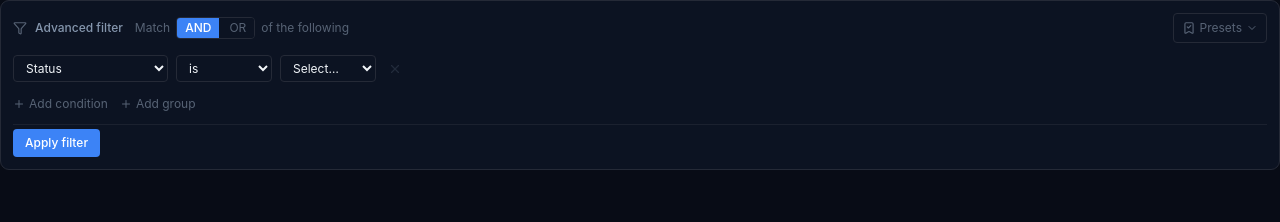
Test case: FilterBuilder › adds a new condition row when 'Add condition' is clicked
Click the button "Add condition" at coordinates (60, 104), box [13,96,108,112]
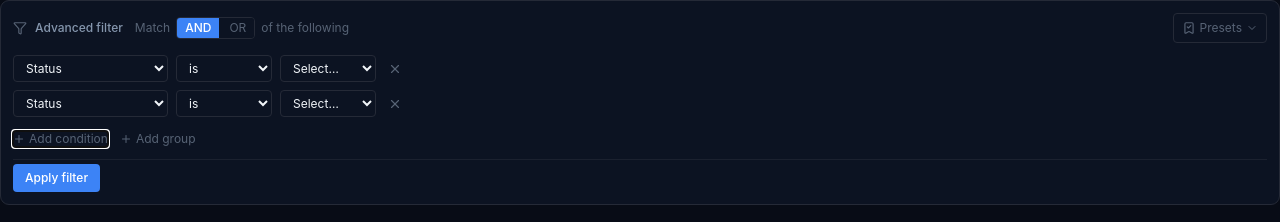
Check: the number of dropdowns named "Filter field" is 2, box [13,55,168,82]; [13,90,168,117]
